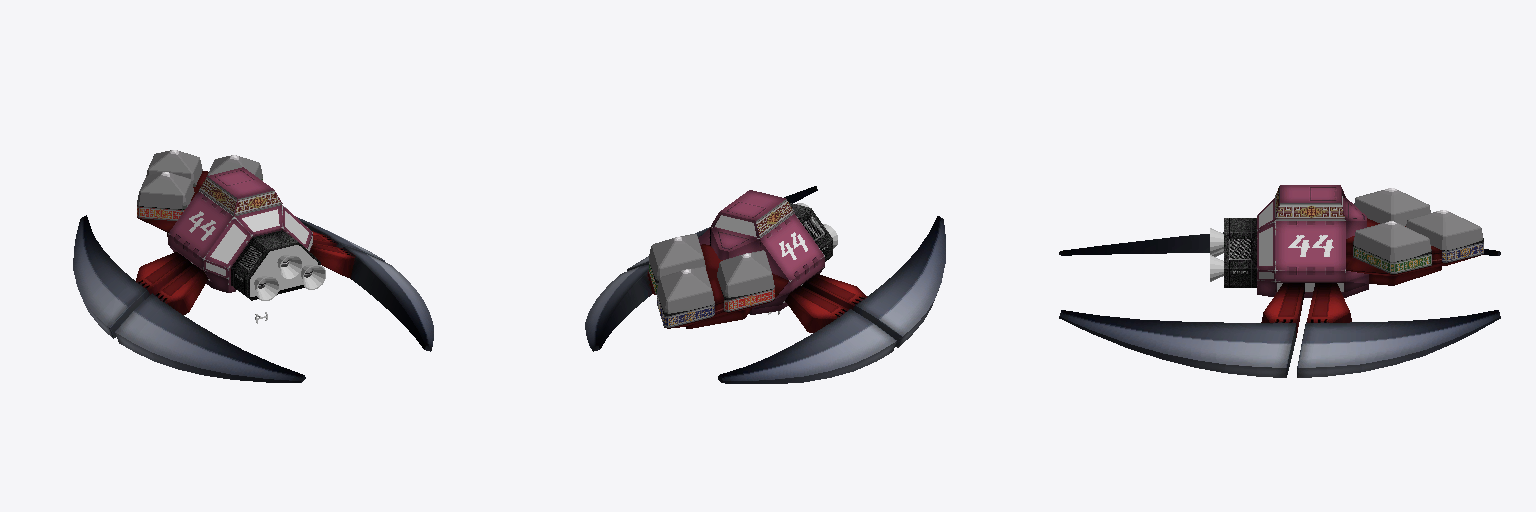
The picture shows the model from 3 angles: view 1: azimuth 30°, elevation 25°; view 2: azimuth 150°, elevation 25°; view 3: azimuth 270°, elevation 25°; orthographic projection.
Parts seen in each view (by area): view 1: 33_pinkspider_a; view 2: 33_pinkspider_a; view 3: 33_pinkspider_a.
Part boxes in pixels (left/top/right/bottom): 33_pinkspider_a: left=73, top=150, right=433, bottom=382; 33_pinkspider_a: left=585, top=186, right=945, bottom=383; 33_pinkspider_a: left=1059, top=185, right=1500, bottom=377.
Size of the model in its own units: 3.39 by 1.46 by 4.7.
Materials: 23 (7 with a texture image).